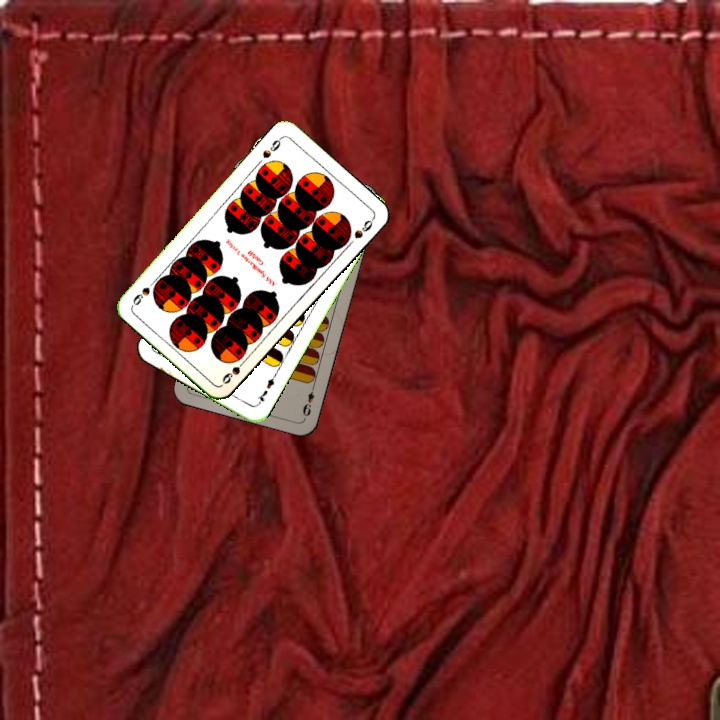E7: (253, 371, 279, 408)
E9: (299, 381, 318, 421)
S9: (218, 352, 250, 387), (258, 132, 285, 161)
